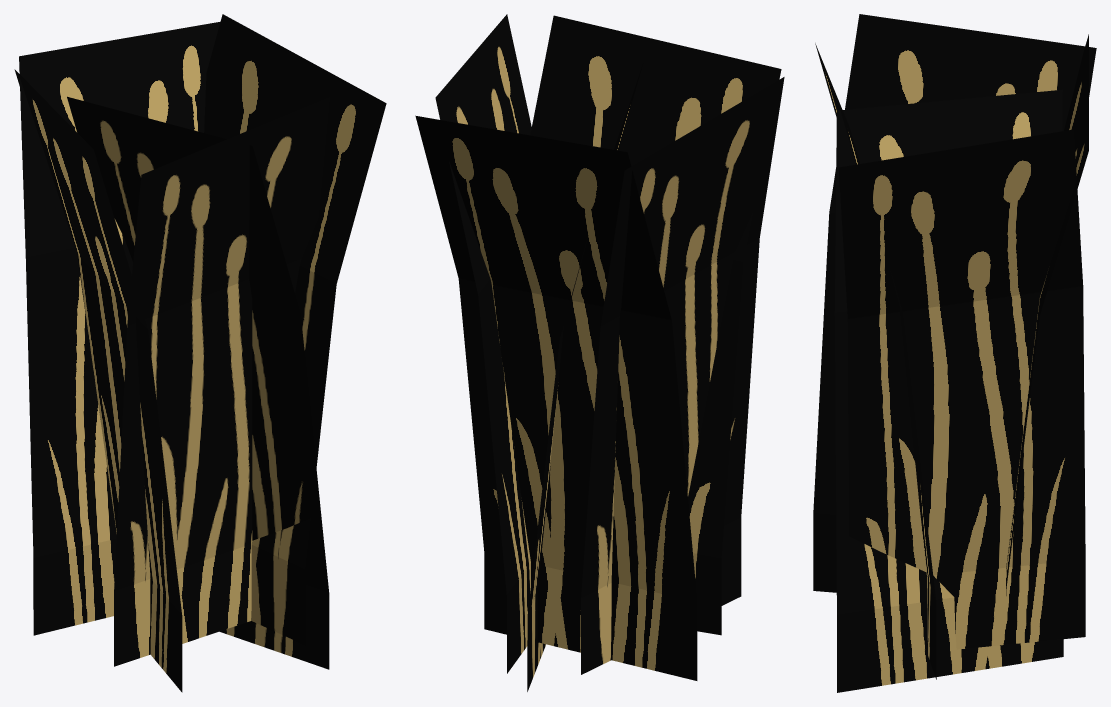
Rendered from wheat.fbx.
3 renders of one model, left to right at view 1: azimuth 30°, elevation 25°; view 2: azimuth 150°, elevation 25°; view 3: azimuth 270°, elevation 25°, orthographic.
Visible parts, largest first — view 1: Wheat; view 2: Wheat; view 3: Wheat.
Boxes of the visible parts, x1,y1,x2,y2 form: Wheat: [14, 14, 386, 692]; Wheat: [415, 14, 784, 691]; Wheat: [813, 14, 1096, 692].
Bounding box in the file's own units: 108 × 208 × 93.87.
